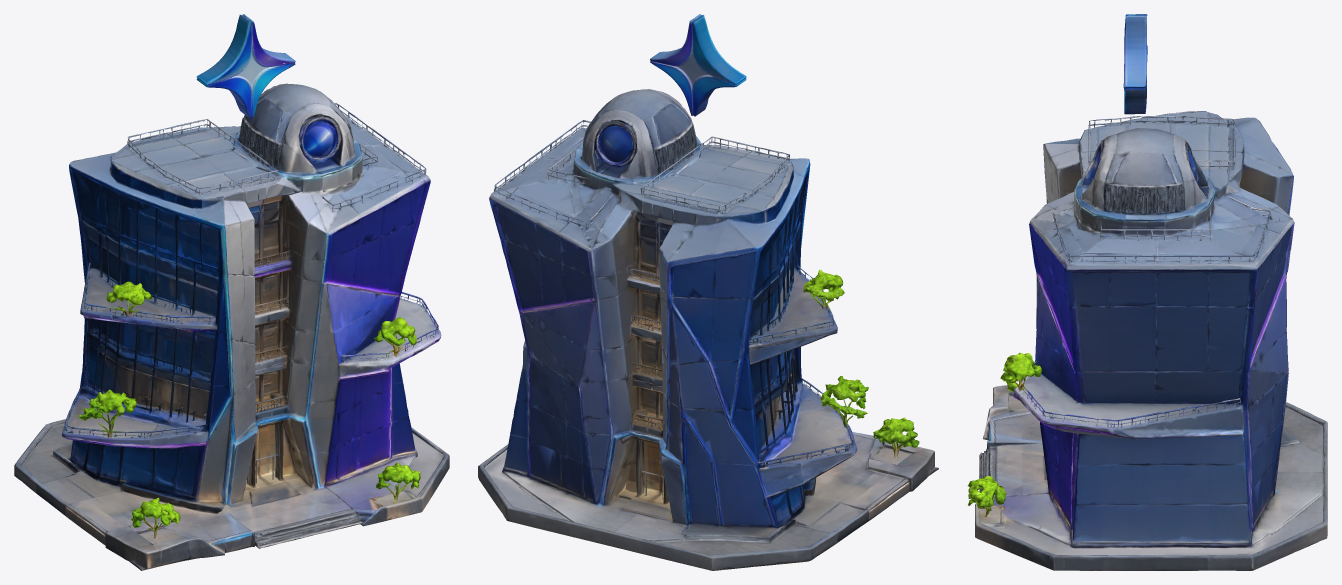
The model's file is gemini-building-v2.glb.
The picture shows the model from 3 angles, left to right: view 1: azimuth 30°, elevation 25°; view 2: azimuth 150°, elevation 25°; view 3: azimuth 270°, elevation 25°; orthographic projection. The views are drawn at different scales.
Visible parts, largest first — view 1: GeminiShell, GeminiLogo; view 2: GeminiShell, GeminiLogo; view 3: GeminiShell, GeminiLogo.
Boxes of the visible parts, x1=… form: GeminiShell: x1=14, y1=83, x2=449, y2=570; GeminiLogo: x1=196, y1=14, x2=295, y2=118; GeminiShell: x1=478, y1=89, x2=938, y2=570; GeminiLogo: x1=650, y1=14, x2=746, y2=116; GeminiShell: x1=968, y1=111, x2=1327, y2=570; GeminiLogo: x1=1123, y1=14, x2=1147, y2=114.
Bounding box in the file's own units: 0.7692 × 0.9805 × 0.6747.
Materials: 2 (2 with a texture image).
